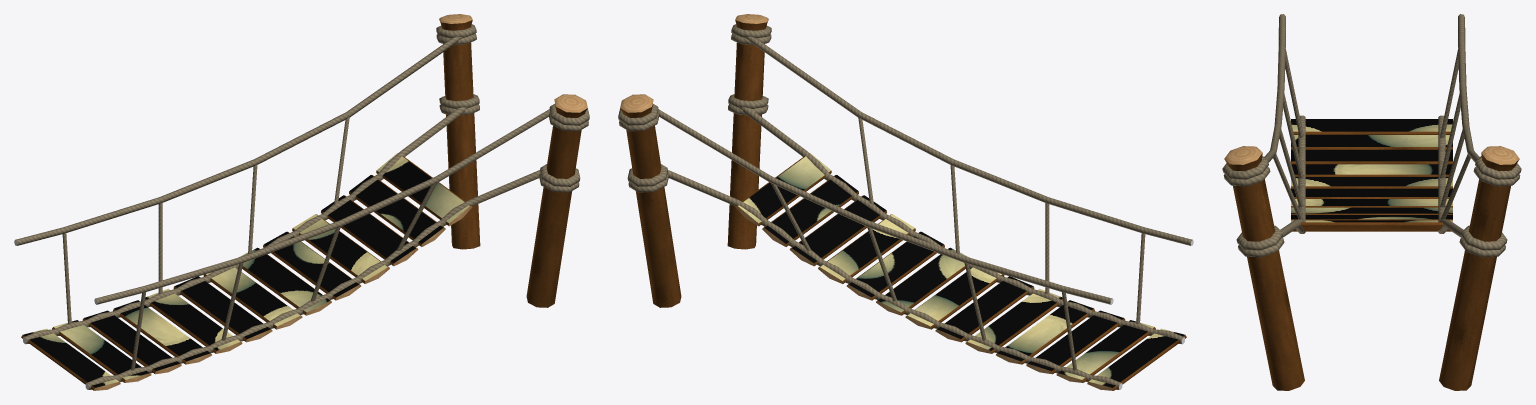
Rendered from Prop_Bridge_Rope_End_Basic_1x3.fbx.
3 renders of one model, left to right at view 1: azimuth 30°, elevation 25°; view 2: azimuth 150°, elevation 25°; view 3: azimuth 270°, elevation 25°, orthographic. The views are drawn at different scales.
Visible parts, largest first — view 1: Prop_Bridge_Rope_End_Basic_1x3; view 2: Prop_Bridge_Rope_End_Basic_1x3; view 3: Prop_Bridge_Rope_End_Basic_1x3.
Part boxes in pixels (left/top/right/bottom): Prop_Bridge_Rope_End_Basic_1x3: left=14, top=14, right=589, bottom=390; Prop_Bridge_Rope_End_Basic_1x3: left=618, top=14, right=1193, bottom=390; Prop_Bridge_Rope_End_Basic_1x3: left=1222, top=14, right=1521, bottom=390.
Size of the model in its own units: 312 by 135 by 152.
